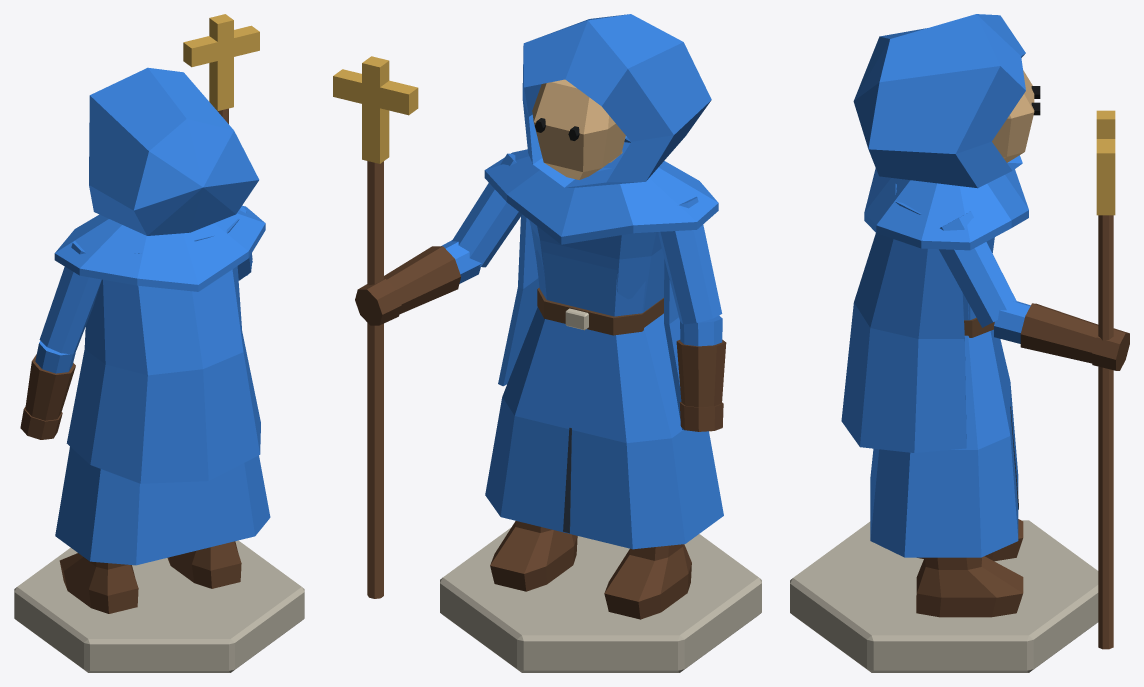
The model's file is human_cleric_t1.glb.
3 renders of one model, left to right at view 1: azimuth 30°, elevation 25°; view 2: azimuth 150°, elevation 25°; view 3: azimuth 270°, elevation 25°, orthographic. The views are drawn at different scales.
Parts seen in each view (by area): view 1: Caster_Short_Back_Cape, Foundation_Hexagonal_Stone, Pointed_Open_Hood_Shell, Caster_Continuous_Long_Robe, Plain_Caster_Shoulder_Mantle, Cleric_Exactly_One_Plain_Gold_Latin_Cross, Boot_-1, left_upper_sleeve, Boot_1, left_bracer, left_lower_sleeve, left_glove_mitten; view 2: Caster_Continuous_Long_Robe, Foundation_Hexagonal_Stone, Pointed_Open_Hood_Shell, Plain_Caster_Shoulder_Mantle, Cleric_One_Plain_Wooden_Cross_Staff_Shaft, Angular_Face, Boot_-1, Cleric_Exactly_One_Plain_Gold_Latin_Cross, Boot_1, Continuous_Tunic_Bodice, left_upper_sleeve, Caster_Short_Back_Cape (+8 smaller); view 3: Foundation_Hexagonal_Stone, Pointed_Open_Hood_Shell, Caster_Short_Back_Cape, Caster_Continuous_Long_Robe, Plain_Caster_Shoulder_Mantle, Cleric_One_Plain_Wooden_Cross_Staff_Shaft, Boot_1, right_upper_sleeve, right_bracer, Cleric_Exactly_One_Plain_Gold_Latin_Cross, Angular_Face, right_glove_mitten (+2 smaller).
Boxes of the visible parts, left/top/right/bottom form: Caster_Short_Back_Cape: left=66, top=266, right=260, bottom=483; Foundation_Hexagonal_Stone: left=14, top=540, right=304, bottom=672; Pointed_Open_Hood_Shell: left=89, top=67, right=259, bottom=235; Caster_Continuous_Long_Robe: left=55, top=218, right=270, bottom=565; Plain_Caster_Shoulder_Mantle: left=54, top=205, right=265, bottom=291; Cleric_Exactly_One_Plain_Gold_Latin_Cross: left=183, top=14, right=259, bottom=110; Boot_-1: left=59, top=553, right=138, bottom=613; left_upper_sleeve: left=39, top=240, right=101, bottom=354; Boot_1: left=167, top=541, right=241, bottom=588; left_bracer: left=25, top=354, right=75, bottom=420; left_lower_sleeve: left=35, top=341, right=75, bottom=373; left_glove_mitten: left=20, top=406, right=62, bottom=439; Caster_Continuous_Long_Robe: left=485, top=167, right=723, bottom=549; Foundation_Hexagonal_Stone: left=440, top=527, right=761, bottom=672; Pointed_Open_Hood_Shell: left=522, top=14, right=711, bottom=187; Plain_Caster_Shoulder_Mantle: left=484, top=139, right=718, bottom=244; Cleric_One_Plain_Wooden_Cross_Staff_Shaft: left=367, top=161, right=383, bottom=598; Angular_Face: left=532, top=79, right=625, bottom=179; Boot_-1: left=604, top=544, right=691, bottom=619; Cleric_Exactly_One_Plain_Gold_Latin_Cross: left=333, top=56, right=418, bottom=163; Boot_1: left=490, top=521, right=577, bottom=591; Continuous_Tunic_Bodice: left=535, top=249, right=645, bottom=316; left_upper_sleeve: left=658, top=196, right=722, bottom=324; Caster_Short_Back_Cape: left=498, top=214, right=684, bottom=430; Foundation_Hexagonal_Stone: left=790, top=520, right=1098, bottom=672; Pointed_Open_Hood_Shell: left=853, top=14, right=1025, bottom=188; Caster_Short_Back_Cape: left=841, top=233, right=966, bottom=452; Caster_Continuous_Long_Robe: left=870, top=184, right=1018, bottom=557; Plain_Caster_Shoulder_Mantle: left=864, top=168, right=1028, bottom=250; Cleric_One_Plain_Wooden_Cross_Staff_Shaft: left=1098, top=215, right=1113, bottom=649; Boot_1: left=916, top=556, right=1023, bottom=617; right_upper_sleeve: left=939, top=211, right=1016, bottom=327; right_bracer: left=1020, top=303, right=1098, bottom=363; Cleric_Exactly_One_Plain_Gold_Latin_Cross: left=1096, top=110, right=1115, bottom=215; Angular_Face: left=992, top=70, right=1034, bottom=162; right_glove_mitten: left=1092, top=328, right=1129, bottom=370.
Bounding box in the file's own units: 1.06 × 1.92 × 0.983.
